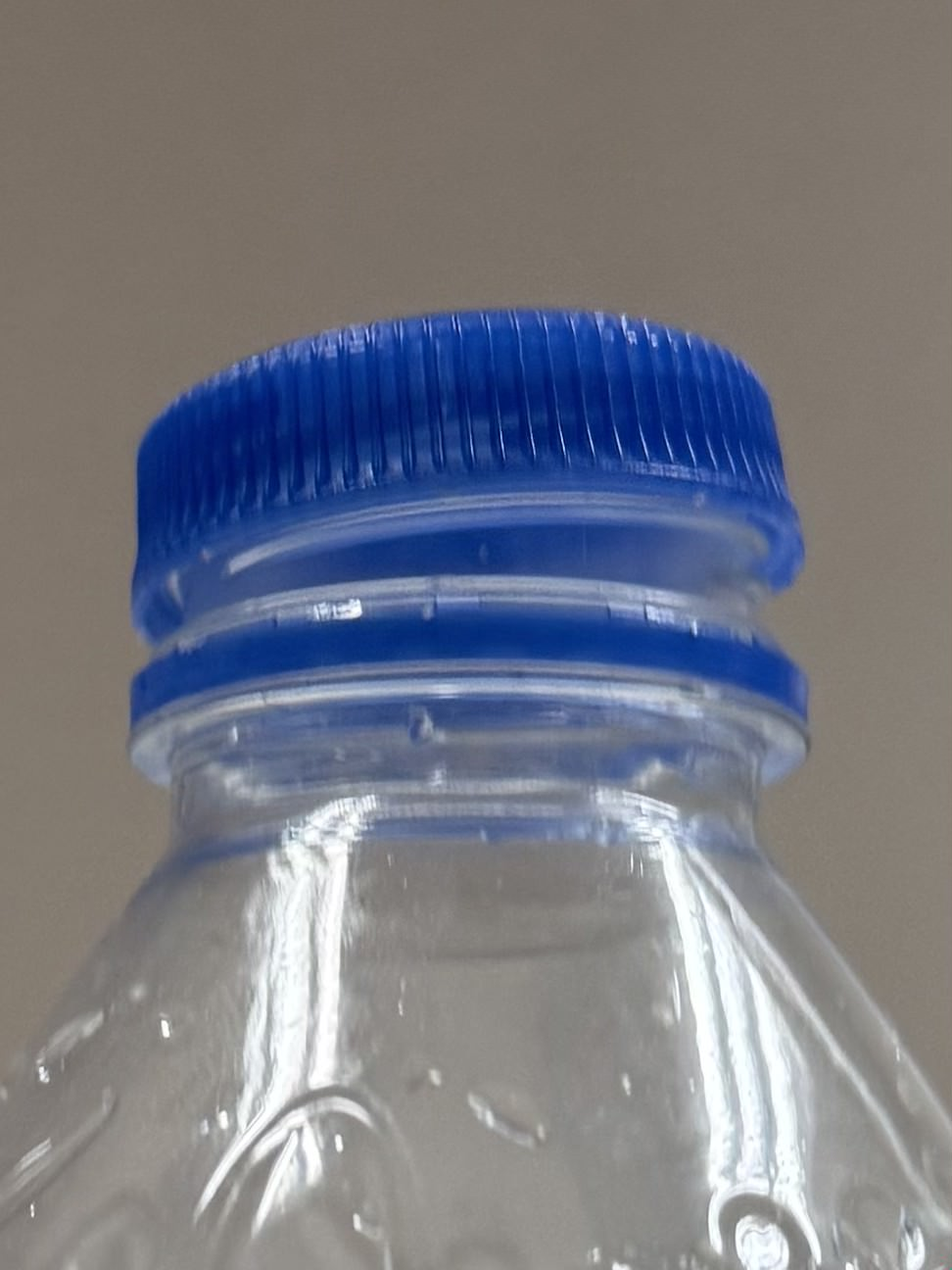half_cap: (115, 294, 823, 783)
